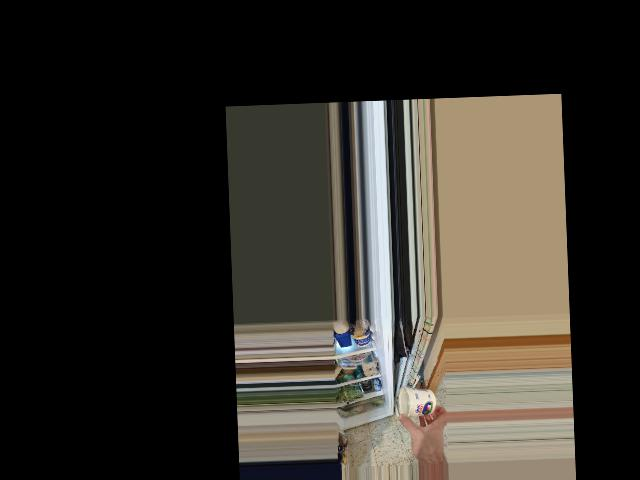cotage: (399, 384, 439, 417)
